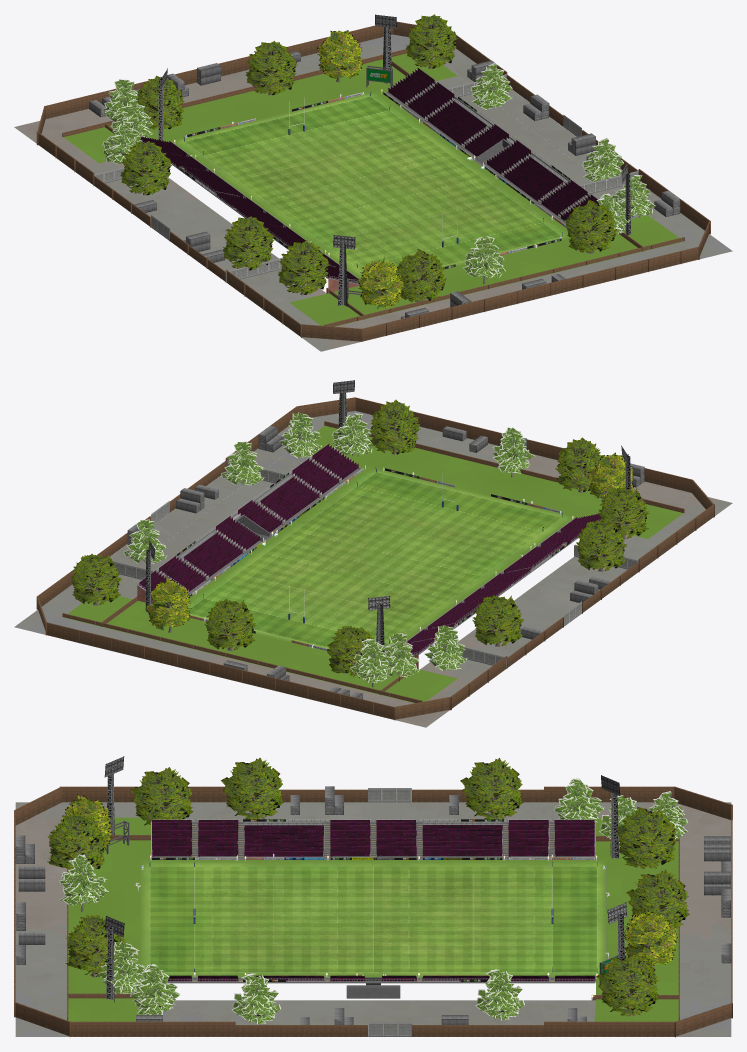
Rendered from stade-club-1.glb.
3 views of the same model, one above another, from view 1: azimuth 30°, elevation 25°; view 2: azimuth 150°, elevation 25°; view 3: azimuth 270°, elevation 25° (orthographic). The views are drawn at different scales.
Parts seen in each view (by area): view 1: PITCH 1, Outer_Surround, StadiumCrowdSectionWest-FlatCrowdMeshes, Inner_Surround, Oak2-With-Wind-And-AO (1) (×2), Inner_Surround_Side_C, StadiumCrowdSectionEast-FlatCrowdMeshes, Inner_Surround_Side_D, Inner_Surround_End_A, Inner_Surround_End_B, Maple2-With-Wind-And-AO (2) (×2), Oak2-With-Wind-And-AO (5) (+23 smaller); view 2: PITCH 1, Outer_Surround, StadiumCrowdSectionWest-FlatCrowdMeshes, Inner_Surround, Oak2-With-Wind-And-AO (1) (×2), Inner_Surround_Side_C, Inner_Surround_End_B, StadiumCrowdSectionEast-FlatCrowdMeshes, Inner_Surround_Side_D, Inner_Surround_End_A, Maple2-With-Wind-And-AO (2) (×2), Maple2-With-Wind-And-AO (5) (×2) (+23 smaller); view 3: PITCH 1, Outer_Surround, StadiumCrowdSectionEast-FlatCrowdMeshes, Inner_Surround_Side_D, Inner_Surround, Oak2-With-Wind-And-AO (1) (×2), Oak2-With-Wind-And-AO (2), Oak2-With-Wind-And-AO (5), Oak2-With-Wind-And-AO (3), Oak2-With-Wind-And-AO (4), Oak2-With-Wind-And-AO (6), SIDE_STAND_04_1TIER_MAIN (+53 smaller).
Part boxes in pixels (<box>): PITCH 1: <box>170,90,570,279</box>; Outer_Surround: <box>14,34,732,351</box>; StadiumCrowdSectionWest-FlatCrowdMeshes: <box>388,68,599,220</box>; Inner_Surround: <box>63,53,683,326</box>; Oak2-With-Wind-And-AO (1) (×2): <box>246,41,617,253</box>; Inner_Surround_Side_C: <box>99,161,326,302</box>; StadiumCrowdSectionEast-FlatCrowdMeshes: <box>140,136,358,283</box>; Inner_Surround_Side_D: <box>435,76,646,218</box>; Inner_Surround_End_A: <box>146,69,366,132</box>; Inner_Surround_End_B: <box>384,249,617,312</box>; Maple2-With-Wind-And-AO (2) (×2): <box>102,79,505,284</box>; Oak2-With-Wind-And-AO (5): <box>406,14,457,68</box>; PITCH 1: <box>187,466,576,651</box>; Outer_Surround: <box>14,411,732,727</box>; StadiumCrowdSectionWest-FlatCrowdMeshes: <box>139,444,358,591</box>; Inner_Surround: <box>63,425,683,703</box>; Oak2-With-Wind-And-AO (1) (×2): <box>204,399,420,651</box>; Inner_Surround_Side_C: <box>420,534,647,678</box>; Inner_Surround_End_B: <box>374,442,603,509</box>; StadiumCrowdSectionEast-FlatCrowdMeshes: <box>402,514,600,654</box>; Inner_Surround_Side_D: <box>117,452,311,599</box>; Inner_Surround_End_A: <box>129,620,371,688</box>; Maple2-With-Wind-And-AO (2) (×2): <box>350,427,534,687</box>; Maple2-With-Wind-And-AO (5) (×2): <box>331,413,419,677</box>; PITCH 1: <box>140,860,606,979</box>; Outer_Surround: <box>15,802,731,1036</box>; StadiumCrowdSectionEast-FlatCrowdMeshes: <box>152,820,594,856</box>; Inner_Surround_Side_D: <box>156,1000,595,1021</box>; Inner_Surround: <box>68,817,678,1021</box>; Oak2-With-Wind-And-AO (1) (×2): <box>65,869,689,977</box>; Oak2-With-Wind-And-AO (2): <box>617,807,675,869</box>; Oak2-With-Wind-And-AO (5): <box>596,953,659,1016</box>; Oak2-With-Wind-And-AO (3): <box>460,758,523,819</box>; Oak2-With-Wind-And-AO (4): <box>221,757,283,819</box>; Oak2-With-Wind-And-AO (6): <box>130,767,192,825</box>; SIDE_STAND_04_1TIER_MAIN: <box>151,823,595,859</box>.
Size of the model in its own units: 156 by 27.83 by 201.
15 materials, 15 textured.
